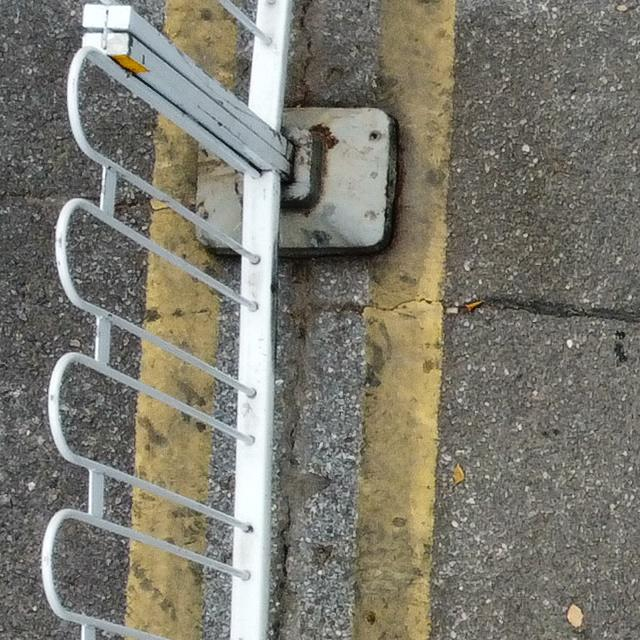TransverseCrack: (327, 296, 640, 326)
